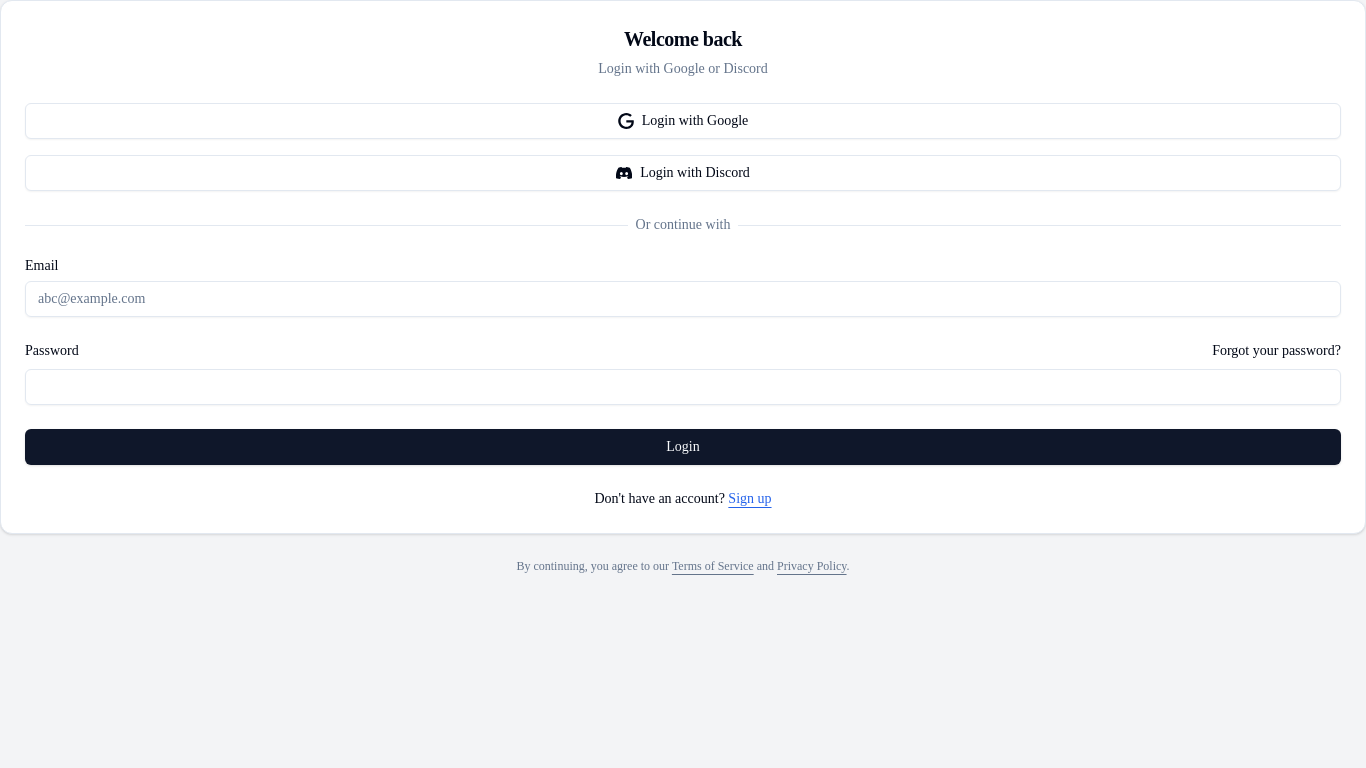
Scenario: LoginForm › shows forgot password popup
Click the link "Forgot your password?": (1277, 351) [1212,341,1341,361]
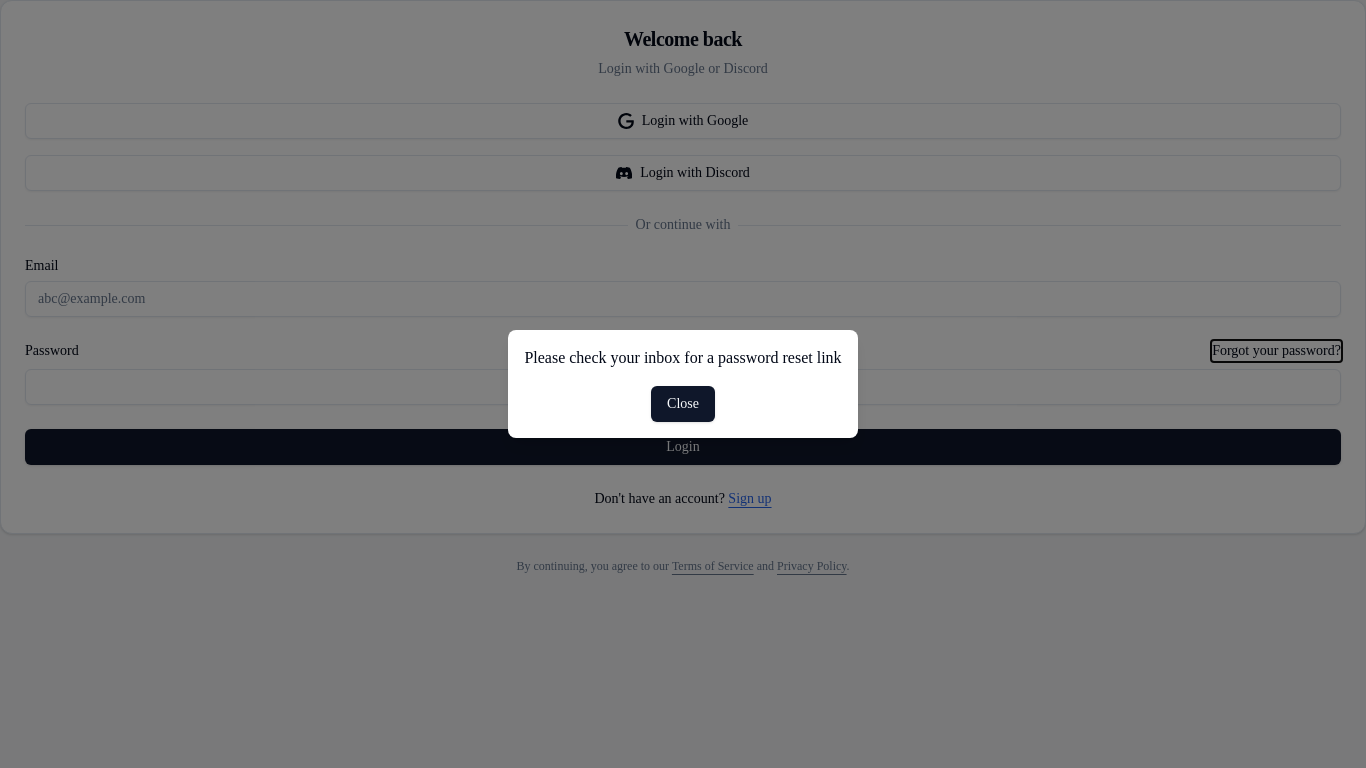
Expected: the text "Please check your inbox for a password reset link" is shown, [524,346,842,370]
Expected: the button "Close" is shown, [651,386,715,422]
